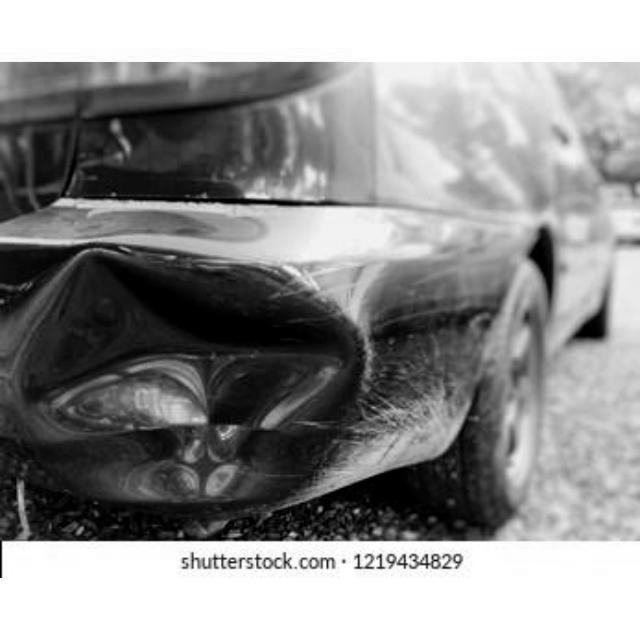rear-bumper-dent: (0, 201, 472, 542)
